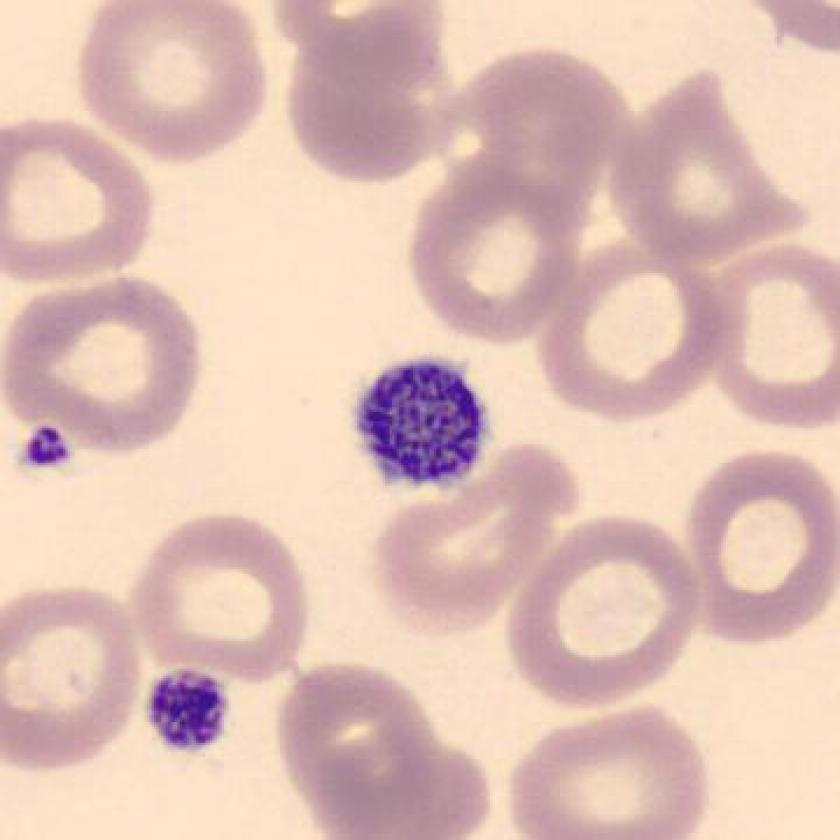platelets: (344, 348, 498, 499), (148, 663, 237, 765), (15, 418, 83, 489)
